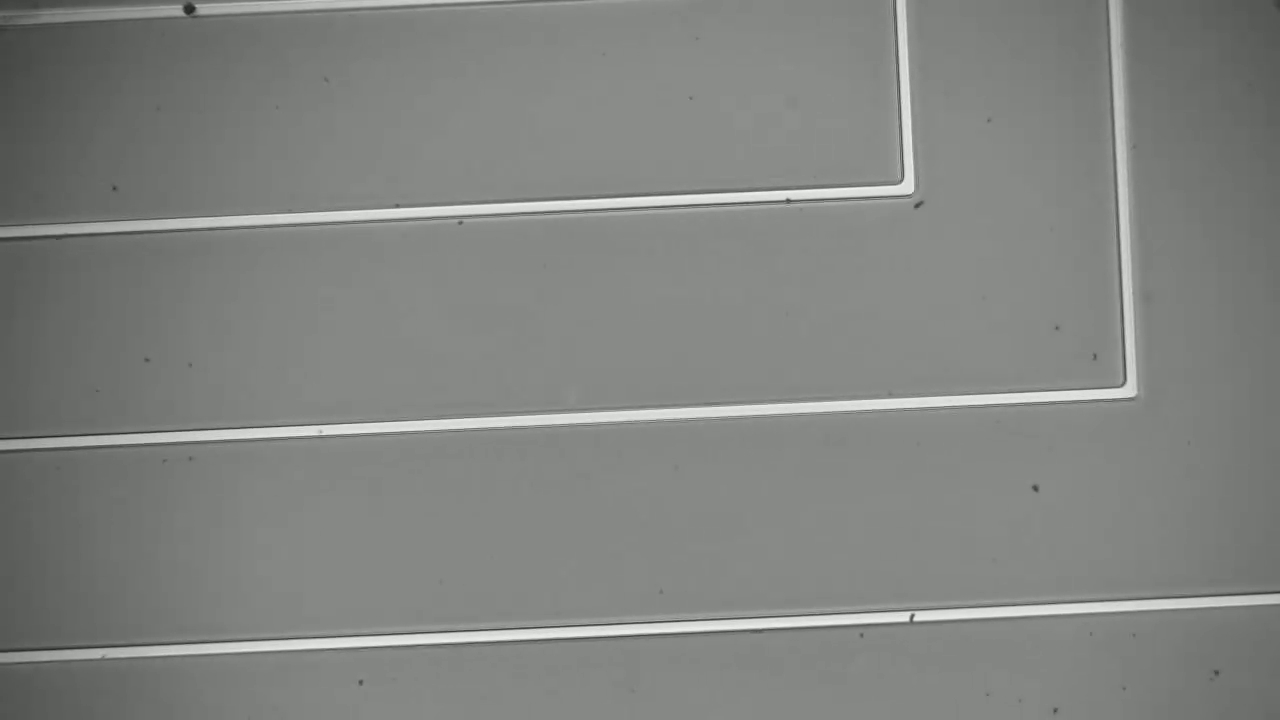stains_enbedded: (176, 1, 209, 22)
